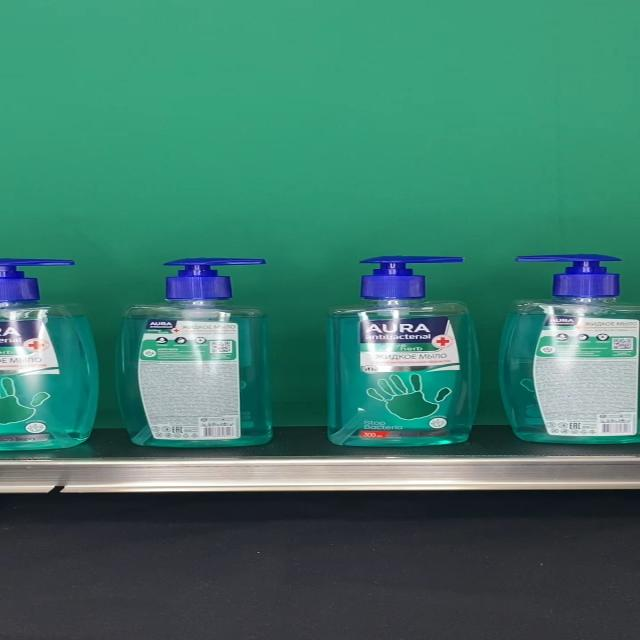Bottle: (118, 257, 273, 448), (326, 256, 481, 447), (498, 255, 640, 444)
Cap: (357, 256, 465, 299), (516, 255, 622, 298), (162, 258, 266, 300)
